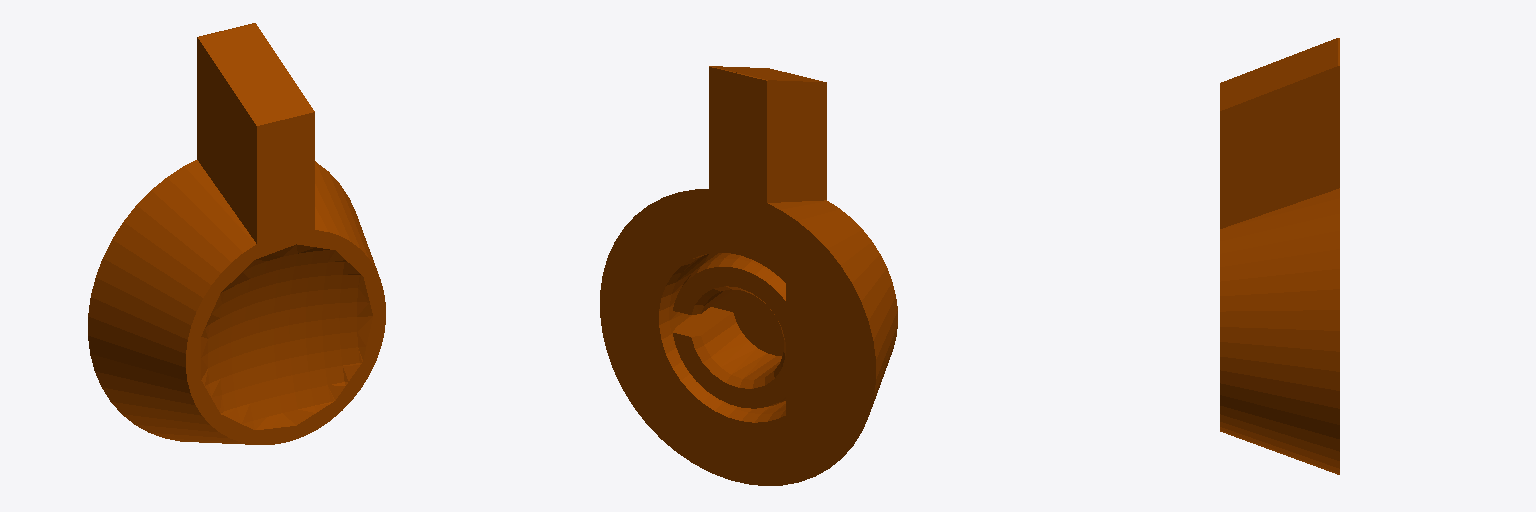
Rendered from LCD-knobR2.obj.
3 renders of one model, left to right at view 1: azimuth 30°, elevation 25°; view 2: azimuth 150°, elevation 25°; view 3: azimuth 270°, elevation 25°, orthographic.
Visible parts, largest first — view 1: mesh 1 LCD-knobR2; view 2: mesh 1 LCD-knobR2; view 3: mesh 1 LCD-knobR2.
Part boxes in pixels (bbox=[...]): mesh 1 LCD-knobR2: bbox=[88, 23, 385, 444]; mesh 1 LCD-knobR2: bbox=[600, 66, 897, 485]; mesh 1 LCD-knobR2: bbox=[1220, 38, 1339, 474].
Bounding box in the file's own units: 0.02 × 0.0282 × 0.0075.